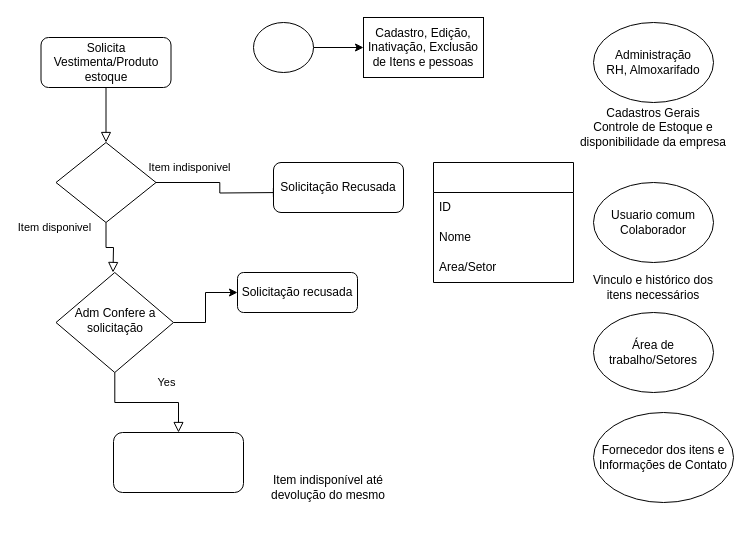
The diagram is 755 pixels wide and 540 high, and some of its shapes have lost their labels. Each missing label, with the box of its shape:
ADM: (252, 22, 314, 72)
Colaborador: (432, 162, 574, 282)
Entrega para o colaborador e realiza o vinculo: (112, 432, 244, 492)
Item está disponivel?: (55, 142, 156, 222)
